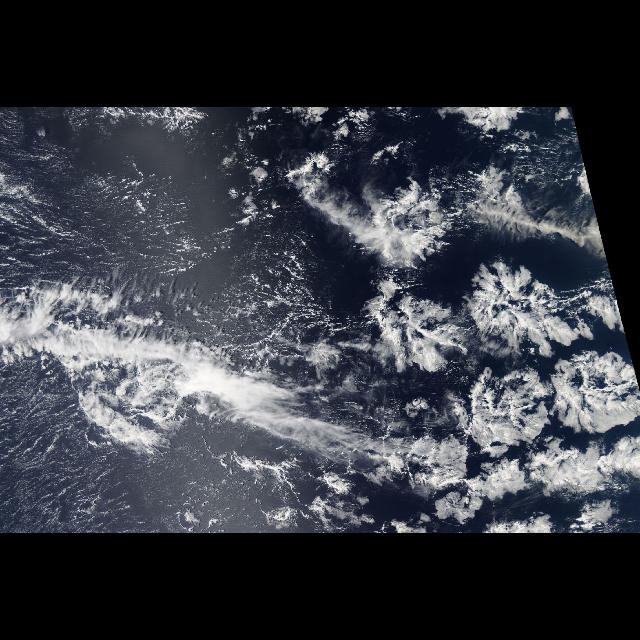Fish: (4, 287, 402, 475)
Flower: (332, 172, 640, 518)
Sugar: (3, 375, 148, 533)
